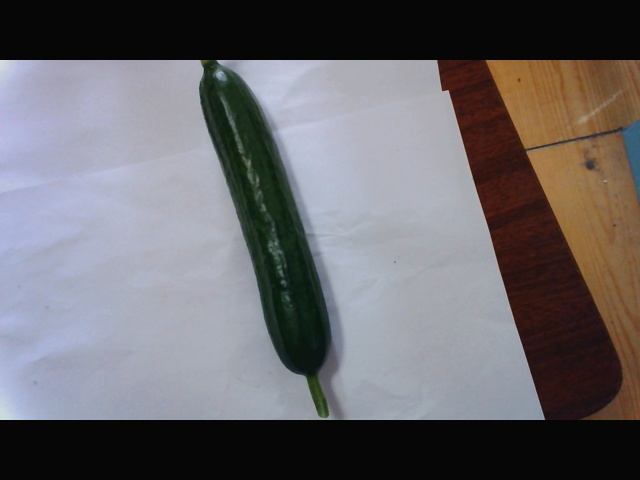cucumber: (177, 65, 339, 415)
